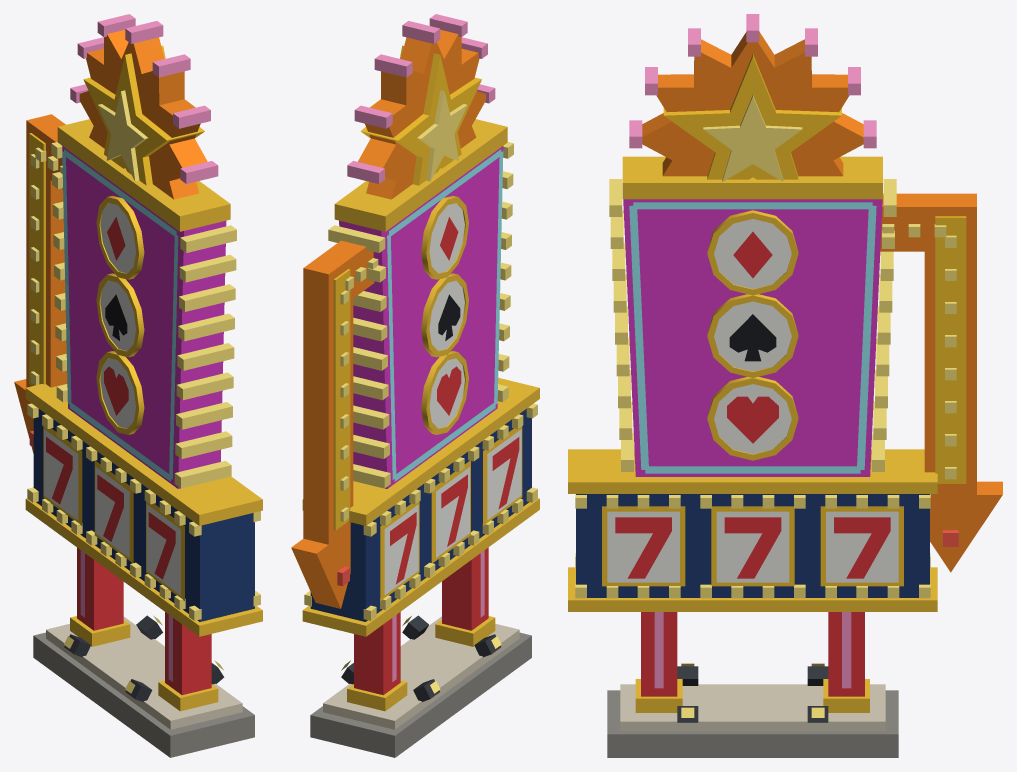
Rendered from casino_sign.glb.
3 renders of one model, left to right at view 1: azimuth 30°, elevation 25°; view 2: azimuth 150°, elevation 25°; view 3: azimuth 270°, elevation 25°, orthographic. The views are drawn at different scales.
Parts seen in each view (by area): view 1: Body; view 2: Body; view 3: Body.
Part boxes in pixels (x1=…): Body: x1=14, y1=14, x2=262, y2=757; Body: x1=291, y1=14, x2=539, y2=757; Body: x1=568, y1=14, x2=1002, y2=757.
Size of the model in its own units: 0.4412 by 3.03 by 1.67.
